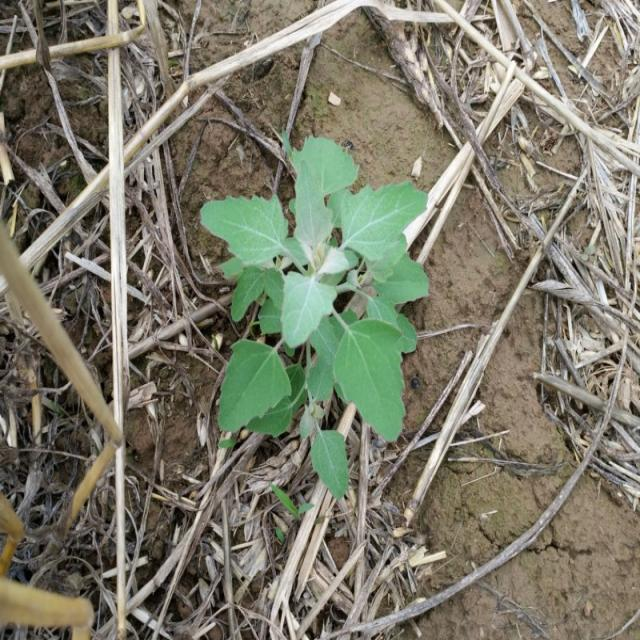goosefoots: (186, 134, 443, 507)
